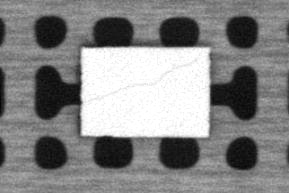DIE_CRACK: (87, 54, 205, 103)
